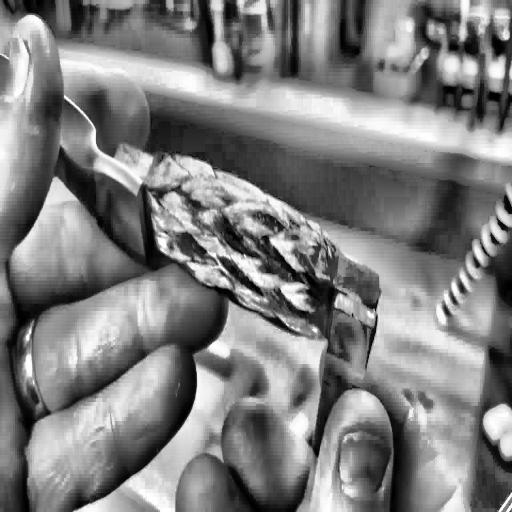busbar: (0, 12, 383, 512)
